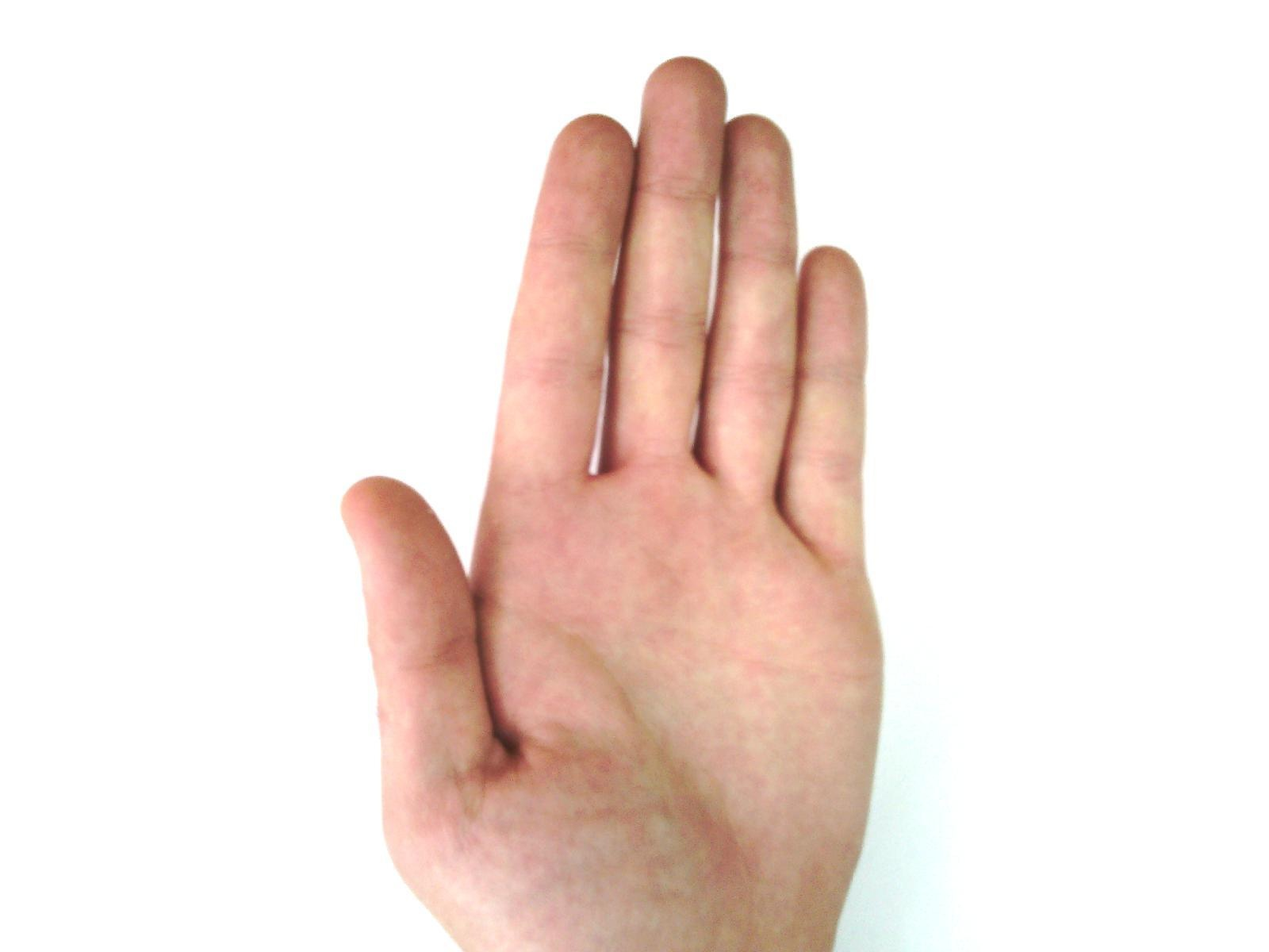open_palm: (339, 56, 889, 951)
